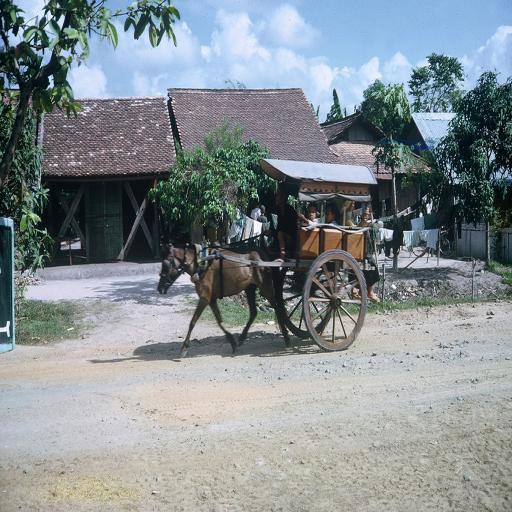horse: (156, 241, 291, 359)
